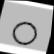no answer: (6, 15, 45, 49)
